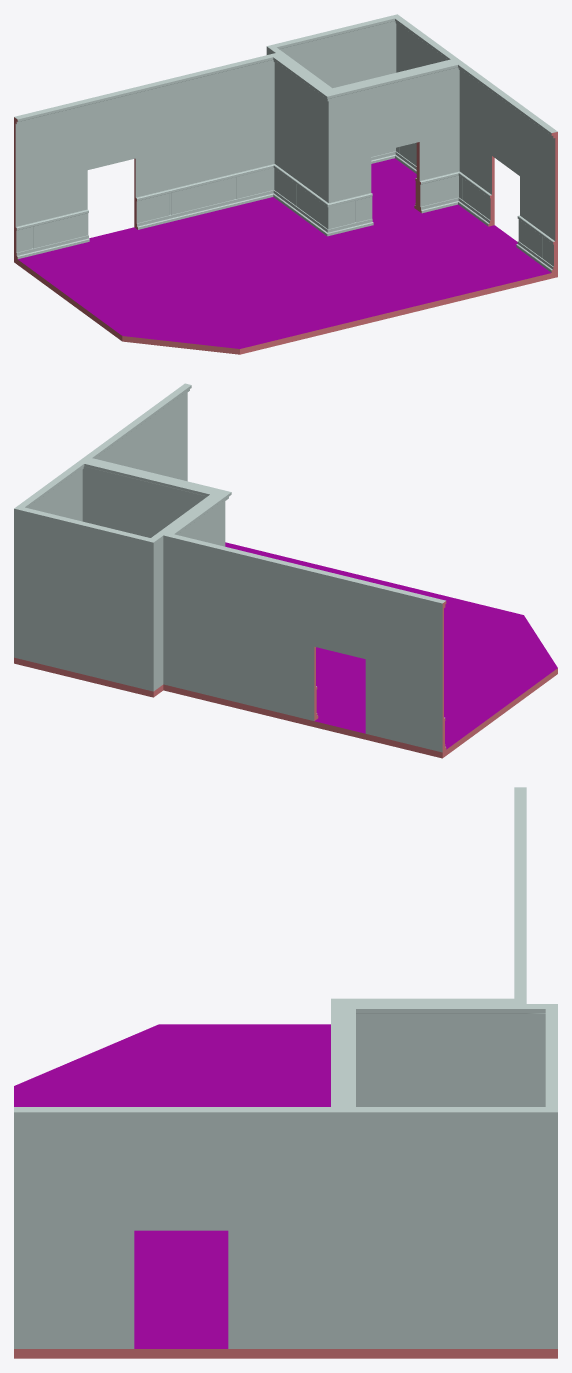
File: Kitchen.fbx
The picture shows the model from 3 angles, top to bottom: view 1: azimuth 30°, elevation 25°; view 2: azimuth 150°, elevation 25°; view 3: azimuth 270°, elevation 25°; orthographic projection. The views are drawn at different scales.
Parts seen in each view (by area): view 1: polySurface188; view 2: polySurface188; view 3: polySurface188.
Part boxes in pixels (x1,y1,x2,y2): polySurface188: (14, 14, 557, 354); polySurface188: (14, 383, 557, 758); polySurface188: (14, 787, 557, 1358).
Bounding box in the file's own units: 147 × 52 × 104.
